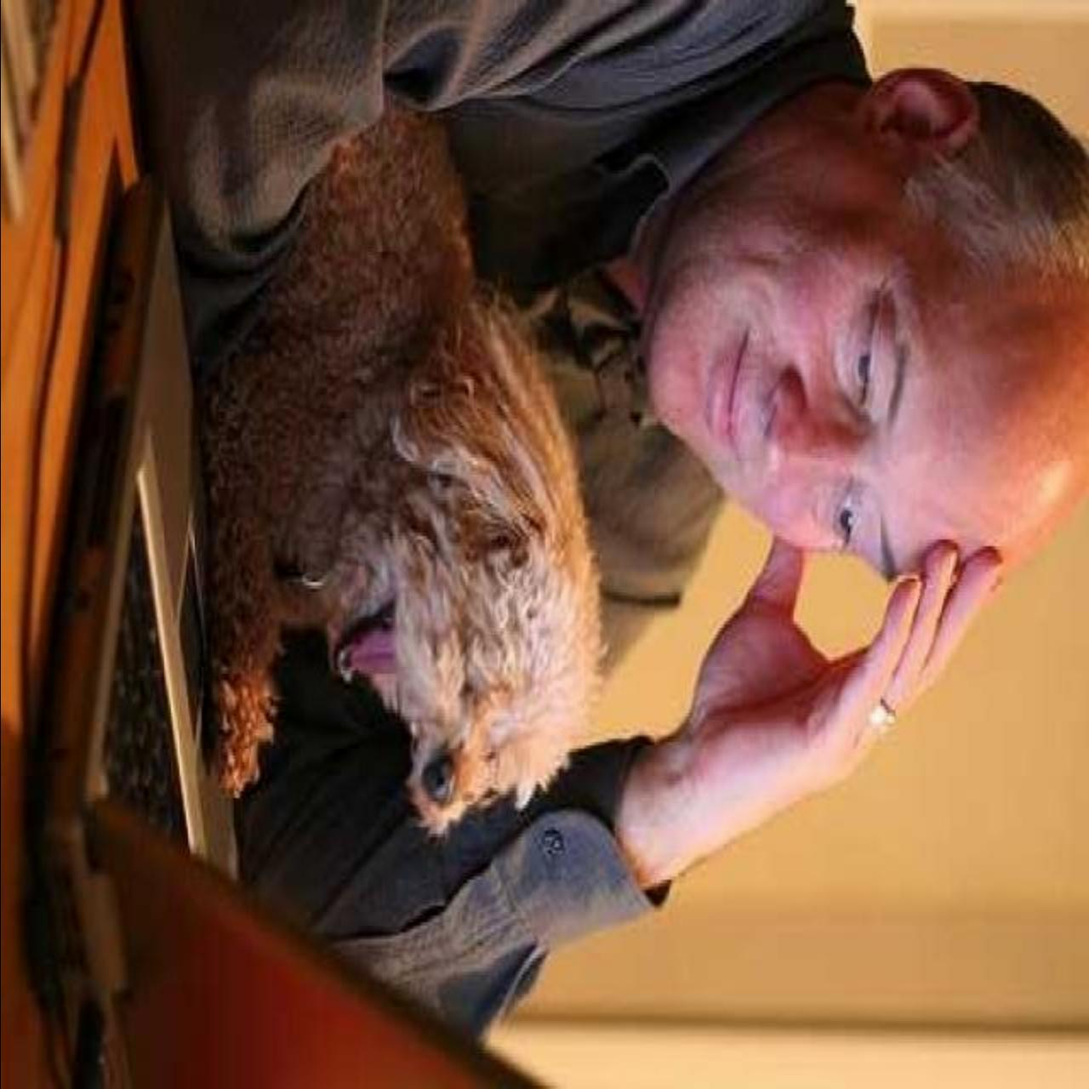laptop: (2, 246, 465, 1088)
